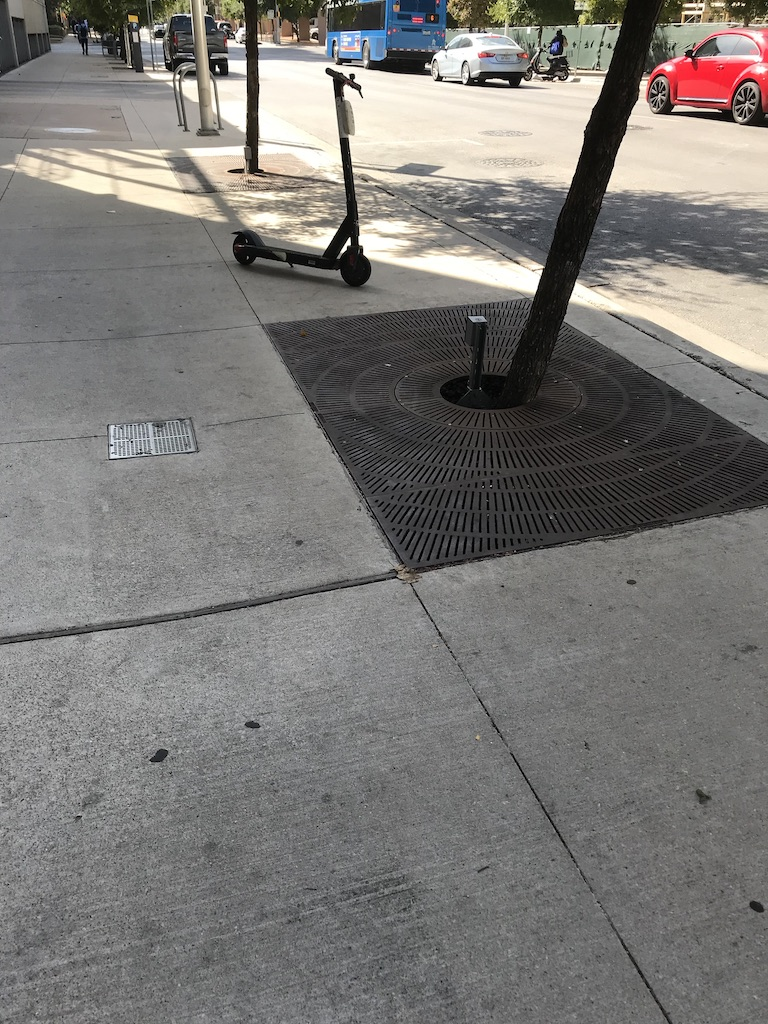scooter: (231, 68, 373, 287)
